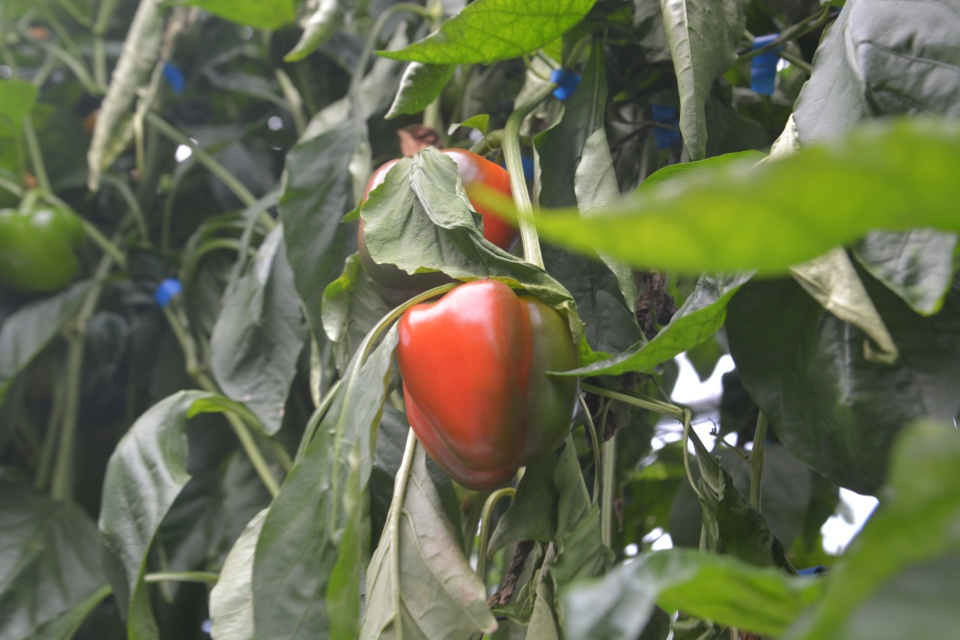fruit: (393, 276, 583, 494), (354, 145, 520, 294), (0, 200, 98, 297)
